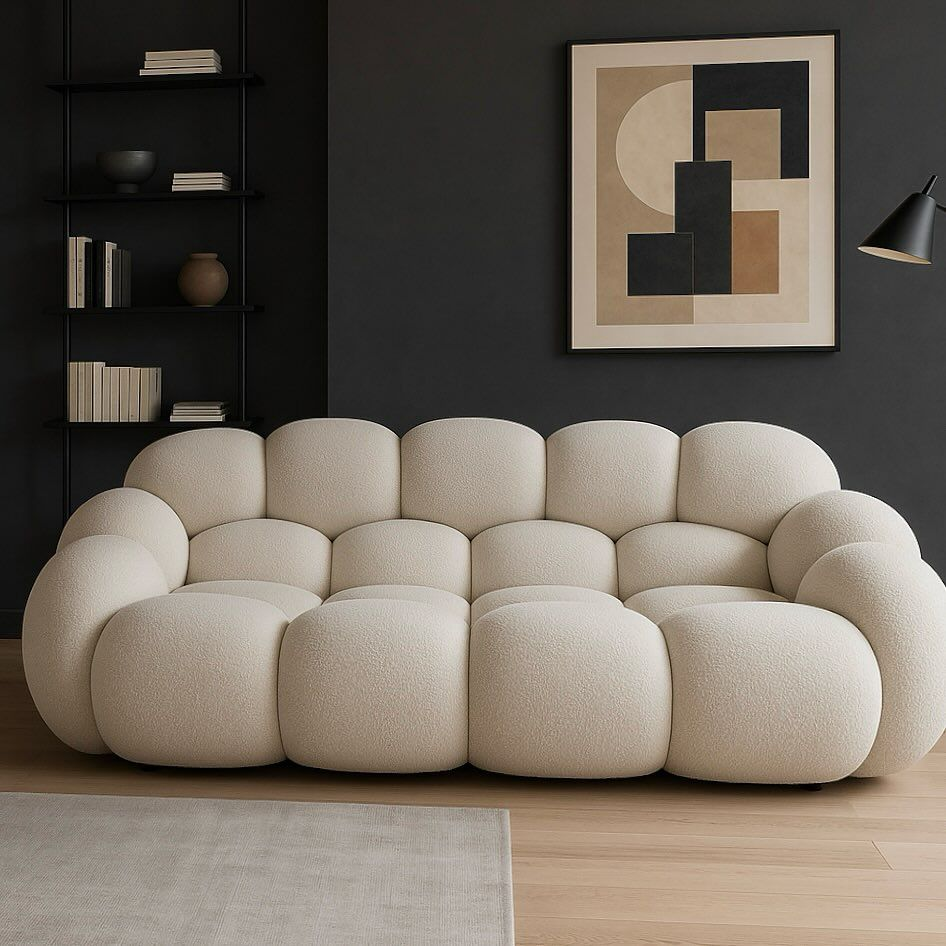3seatersofa: (24, 417, 945, 783)
backrest: (128, 416, 840, 604)
leftarmrest: (769, 491, 945, 776)
rightarmrest: (25, 487, 187, 750)
seat: (84, 580, 882, 786)
